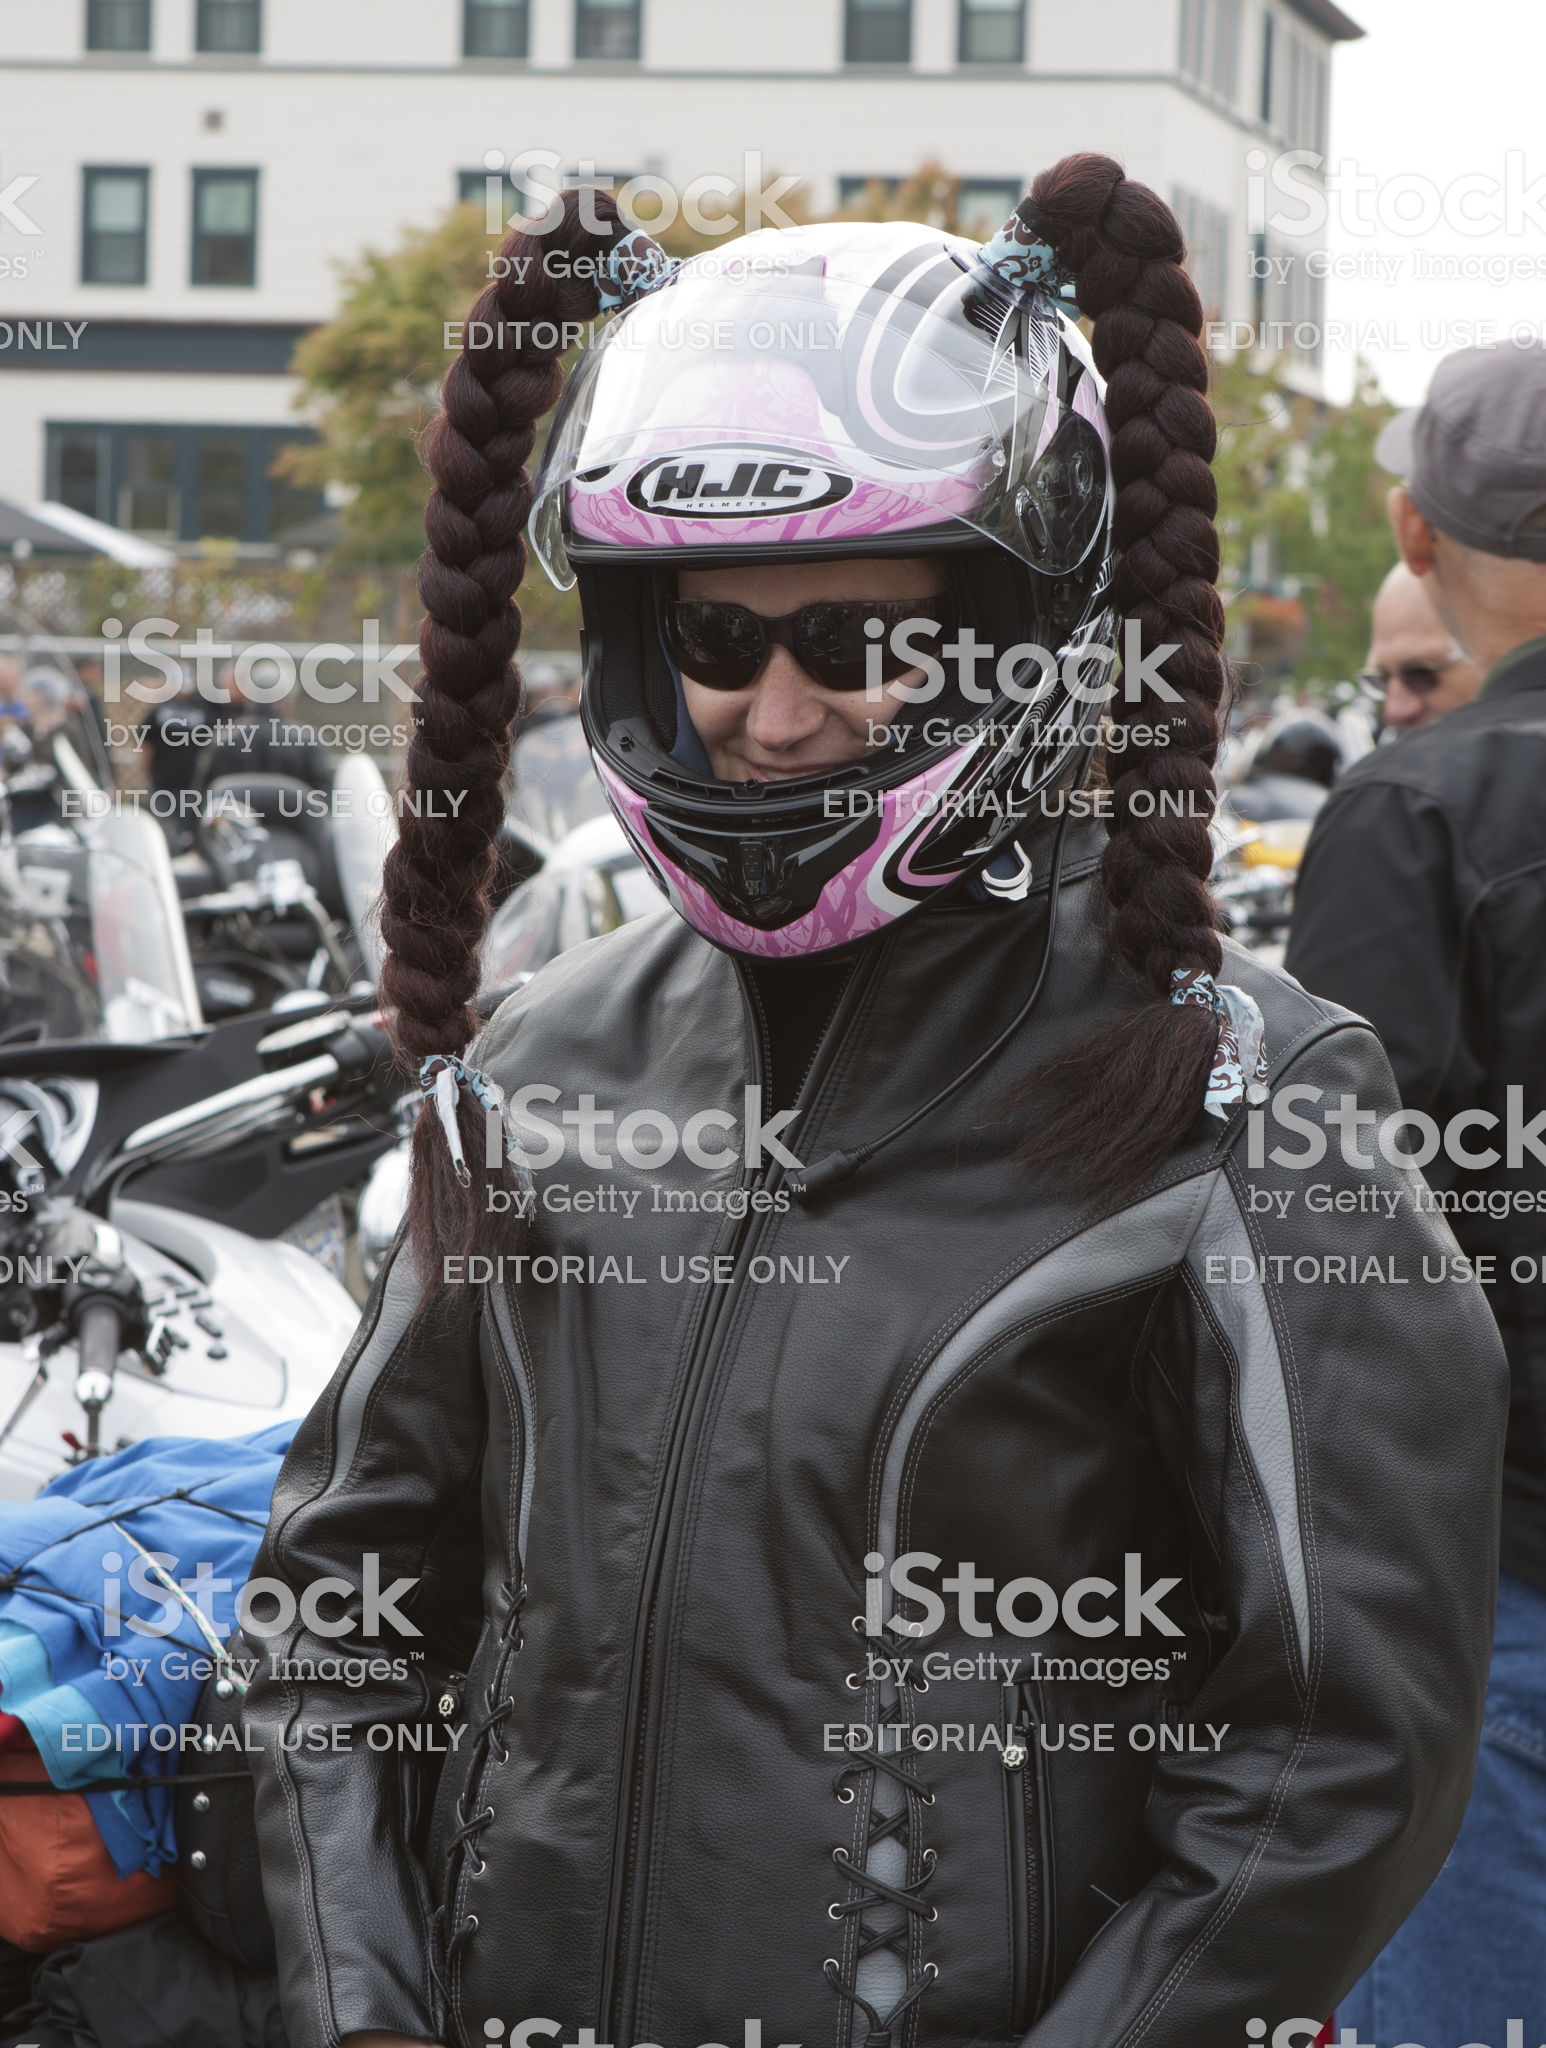helmet: (572, 179, 1129, 947)
